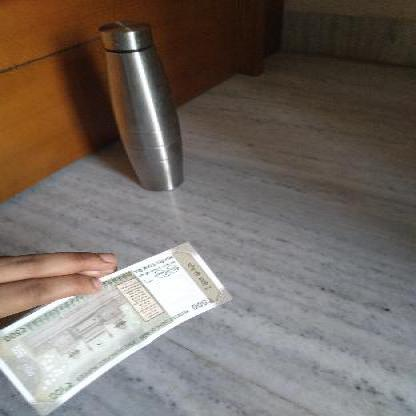New500Back: (3, 242, 232, 408)
